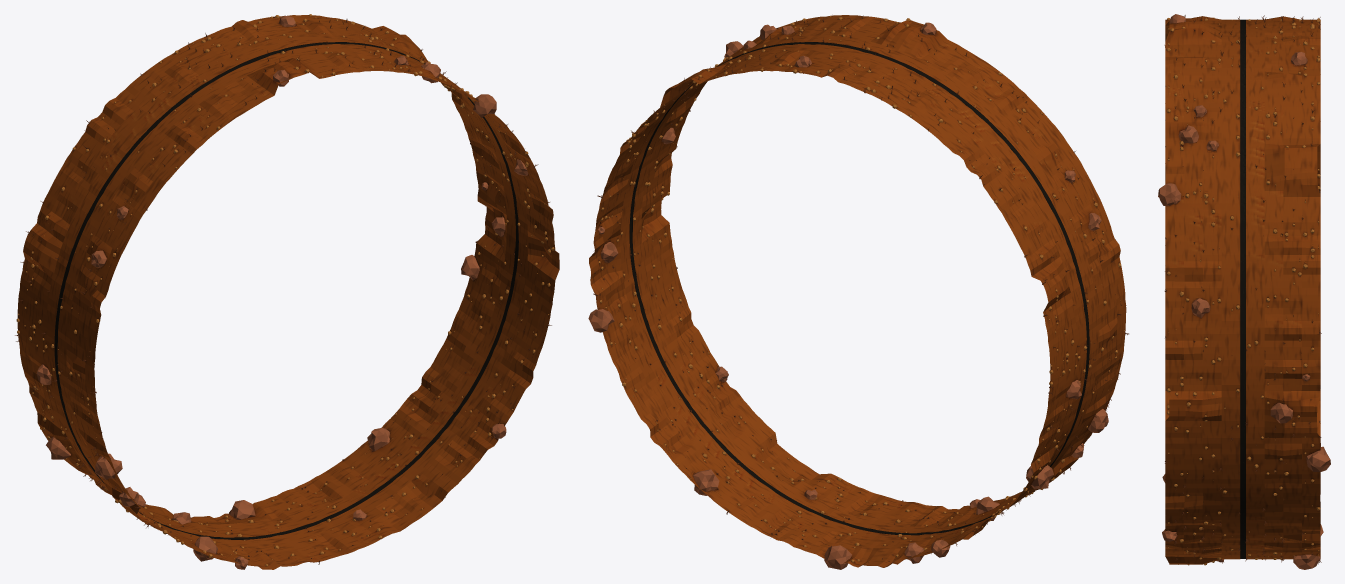
Rendered from EscenarioCoches2.fbx.
The picture shows the model from 3 angles, left to right: view 1: azimuth 30°, elevation 25°; view 2: azimuth 150°, elevation 25°; view 3: azimuth 270°, elevation 25°; orthographic projection. The views are drawn at different scales.
Parts seen in each view (by area): view 1: Cylinder, Carretera; view 2: Cylinder, Carretera; view 3: Cylinder, Carretera, Icosphere.609, Icosphere.619, Icosphere.618, Icosphere.622, Icosphere.612, Icosphere.625.
Part boxes in pixels (left/top/right/bottom): Cylinder: left=17, top=15, right=559, bottom=569; Carretera: left=54, top=42, right=518, bottom=539; Cylinder: left=589, top=15, right=1126, bottom=567; Carretera: left=629, top=42, right=1089, bottom=535; Cylinder: left=1165, top=16, right=1320, bottom=564; Carretera: left=1240, top=19, right=1245, bottom=558; Icosphere.609: left=1306, top=446, right=1330, bottom=471; Icosphere.619: left=1158, top=183, right=1181, bottom=205; Icosphere.618: left=1270, top=402, right=1292, bottom=423; Icosphere.622: left=1293, top=554, right=1320, bottom=569; Icosphere.612: left=1191, top=298, right=1210, bottom=317; Icosphere.625: left=1178, top=125, right=1198, bottom=143.
Size of the model in its own units: 64196 by 209300 by 211259.
4 materials, 1 textured.
